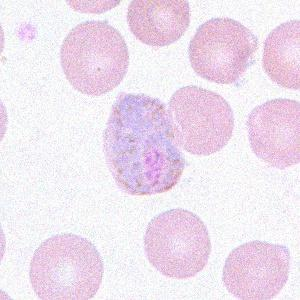Infected: (102, 88, 186, 197)
Uninfected: (29, 233, 104, 300), (62, 21, 128, 96), (188, 20, 259, 86), (144, 210, 210, 279), (170, 86, 235, 156), (222, 239, 291, 300), (248, 98, 300, 167), (127, 0, 191, 48), (261, 19, 300, 93)
